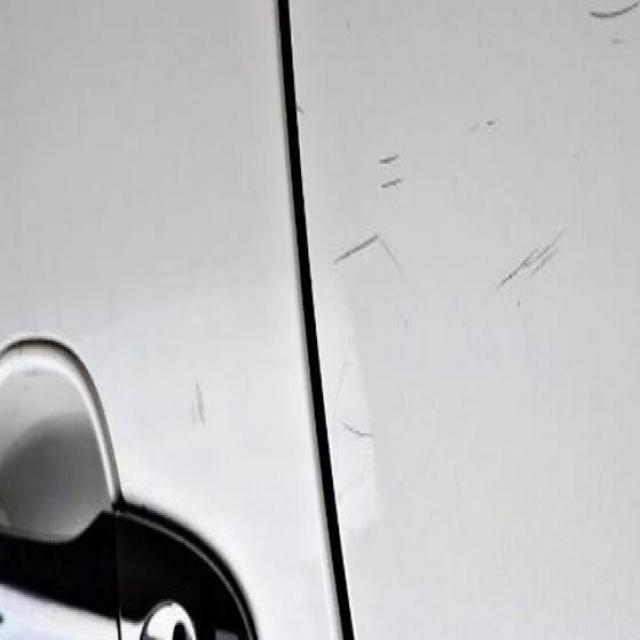scratch: (481, 215, 581, 312), (324, 220, 392, 284), (366, 150, 424, 212), (583, 0, 640, 26)
